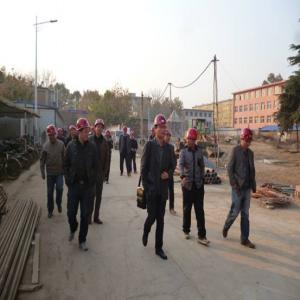red: (77, 119, 91, 141), (155, 116, 167, 138), (241, 127, 253, 148), (186, 129, 198, 148), (95, 119, 106, 137), (48, 125, 58, 143), (164, 129, 172, 143), (70, 125, 76, 136), (58, 128, 64, 138), (105, 130, 111, 139), (123, 126, 128, 136), (151, 127, 156, 137), (131, 131, 136, 140)
